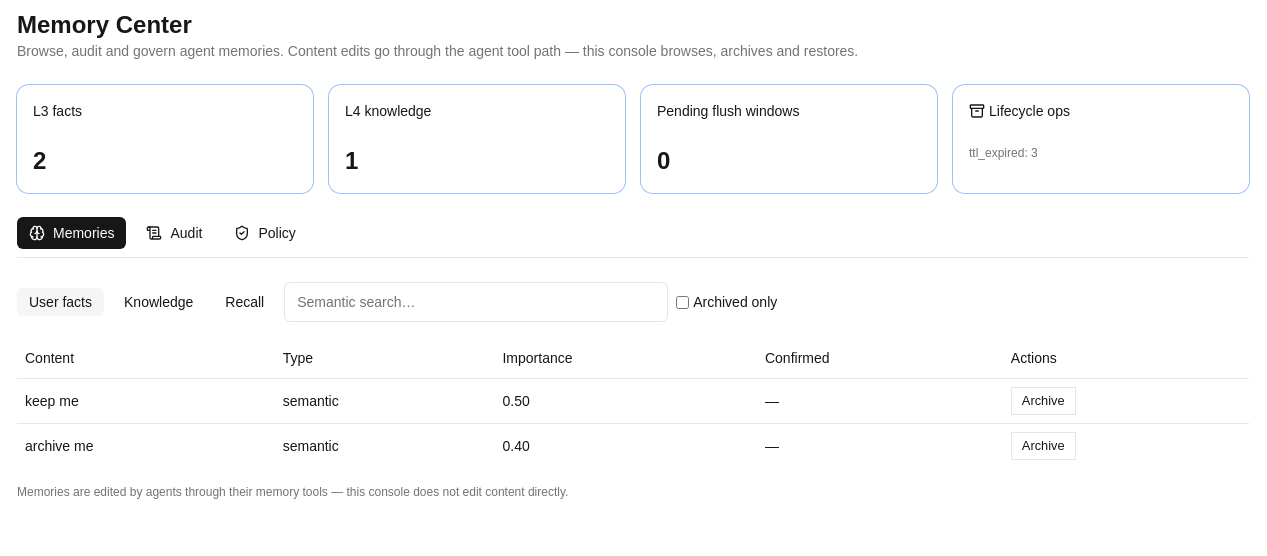
Scenario: MemoryCenterPage › shows the audit views with source filter and run errors
Click the button with test id "section-audit" at [174, 233], box [134,217,214,249]
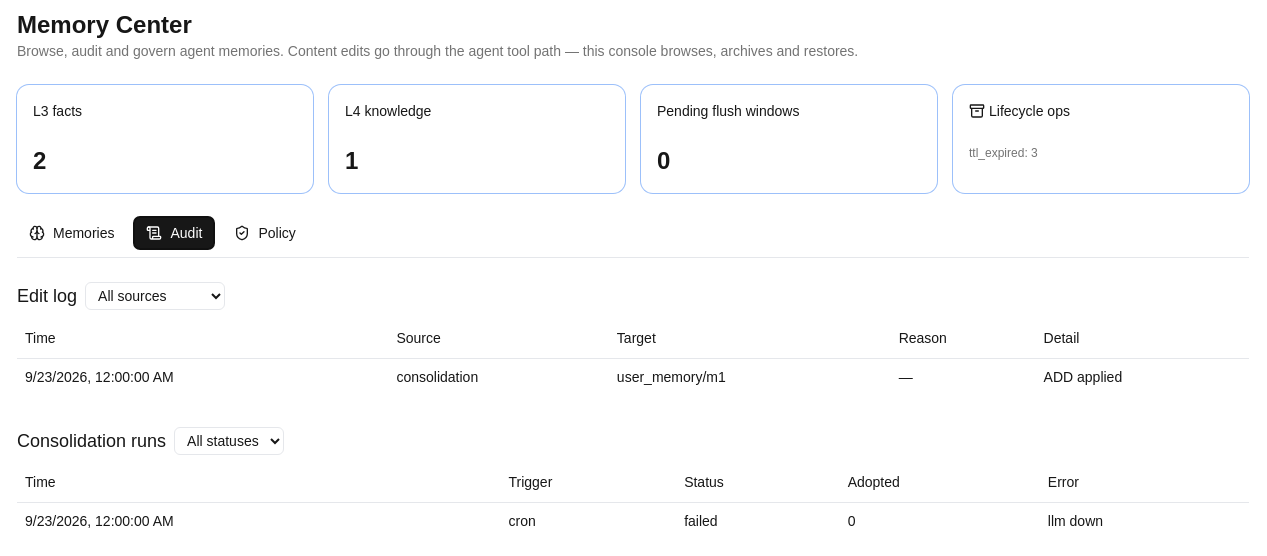
Result: the row with test id "audit-row-a1" is shown at [17,358,1249,394]
Result: the text "consolidation" is shown at [388,358,609,394]
Result: the row with test id "run-row-r1" is shown at [17,502,1249,539]
